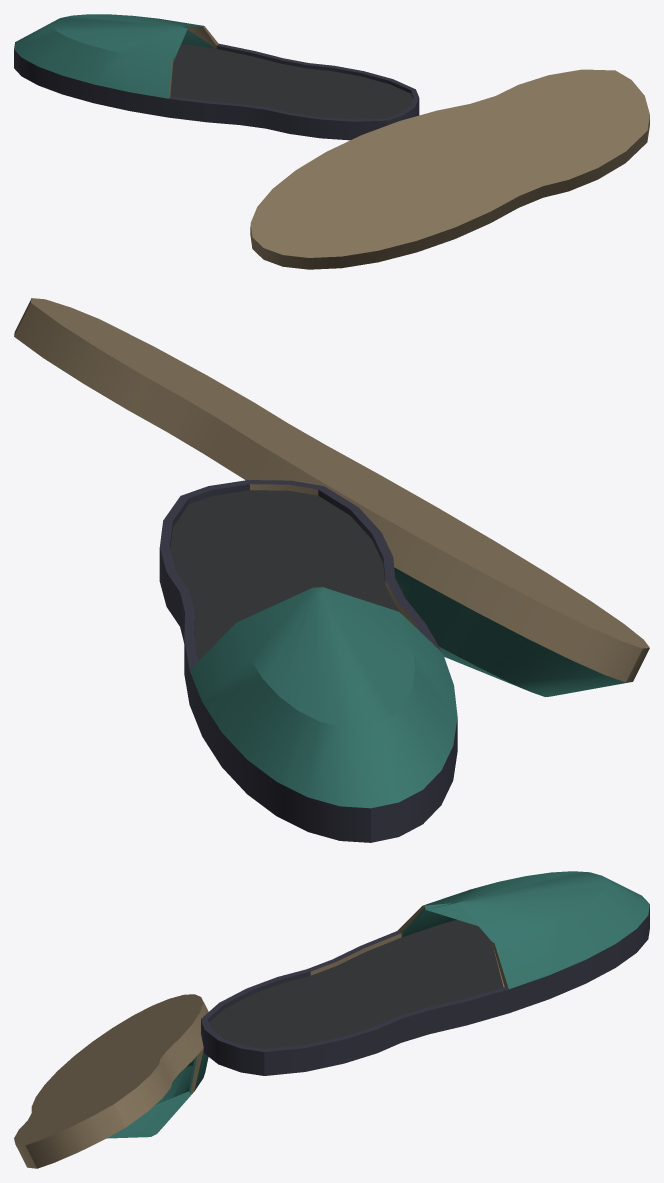
Rendered from ТАПКИ ХУЕВЫЕ.fbx.
3 renders of one model, top to bottom at view 1: azimuth 30°, elevation 25°; view 2: azimuth 150°, elevation 25°; view 3: azimuth 270°, elevation 25°, orthographic. The views are drawn at different scales.
Visible parts, largest first — view 1: Окружность.008, Окружность.025; view 2: Окружность.025, Окружность.008; view 3: Окружность.025, Окружность.008.
Boxes of the visible parts, <box> form: Окружность.008: <box>250,69,649,269</box>; Окружность.025: <box>14,14,419,140</box>; Окружность.025: <box>159,480,457,842</box>; Окружность.008: <box>14,298,649,696</box>; Окружность.025: <box>201,871,649,1075</box>; Окружность.008: <box>14,994,208,1168</box>.
Bounding box in the file's own units: 241 × 80.95 × 250.
